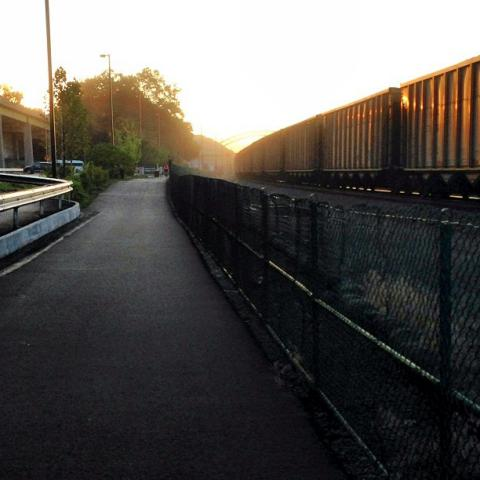car: (23, 162, 52, 174)
